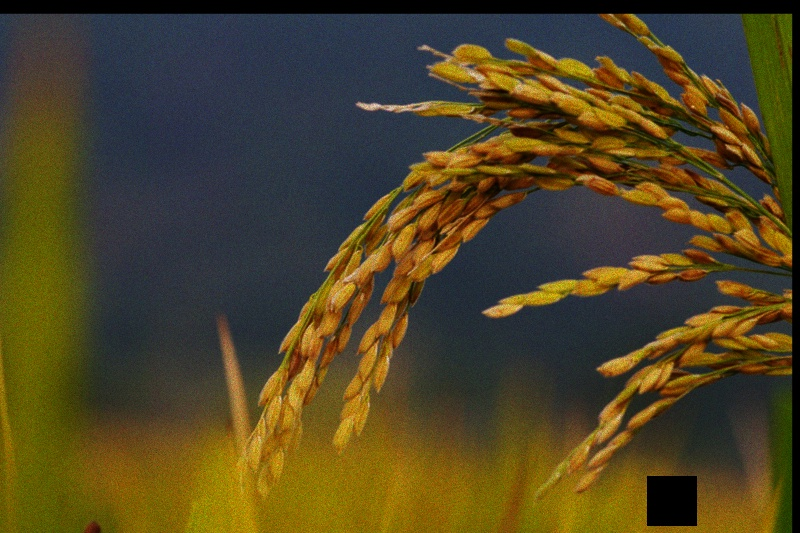rice: (236, 41, 788, 497)
